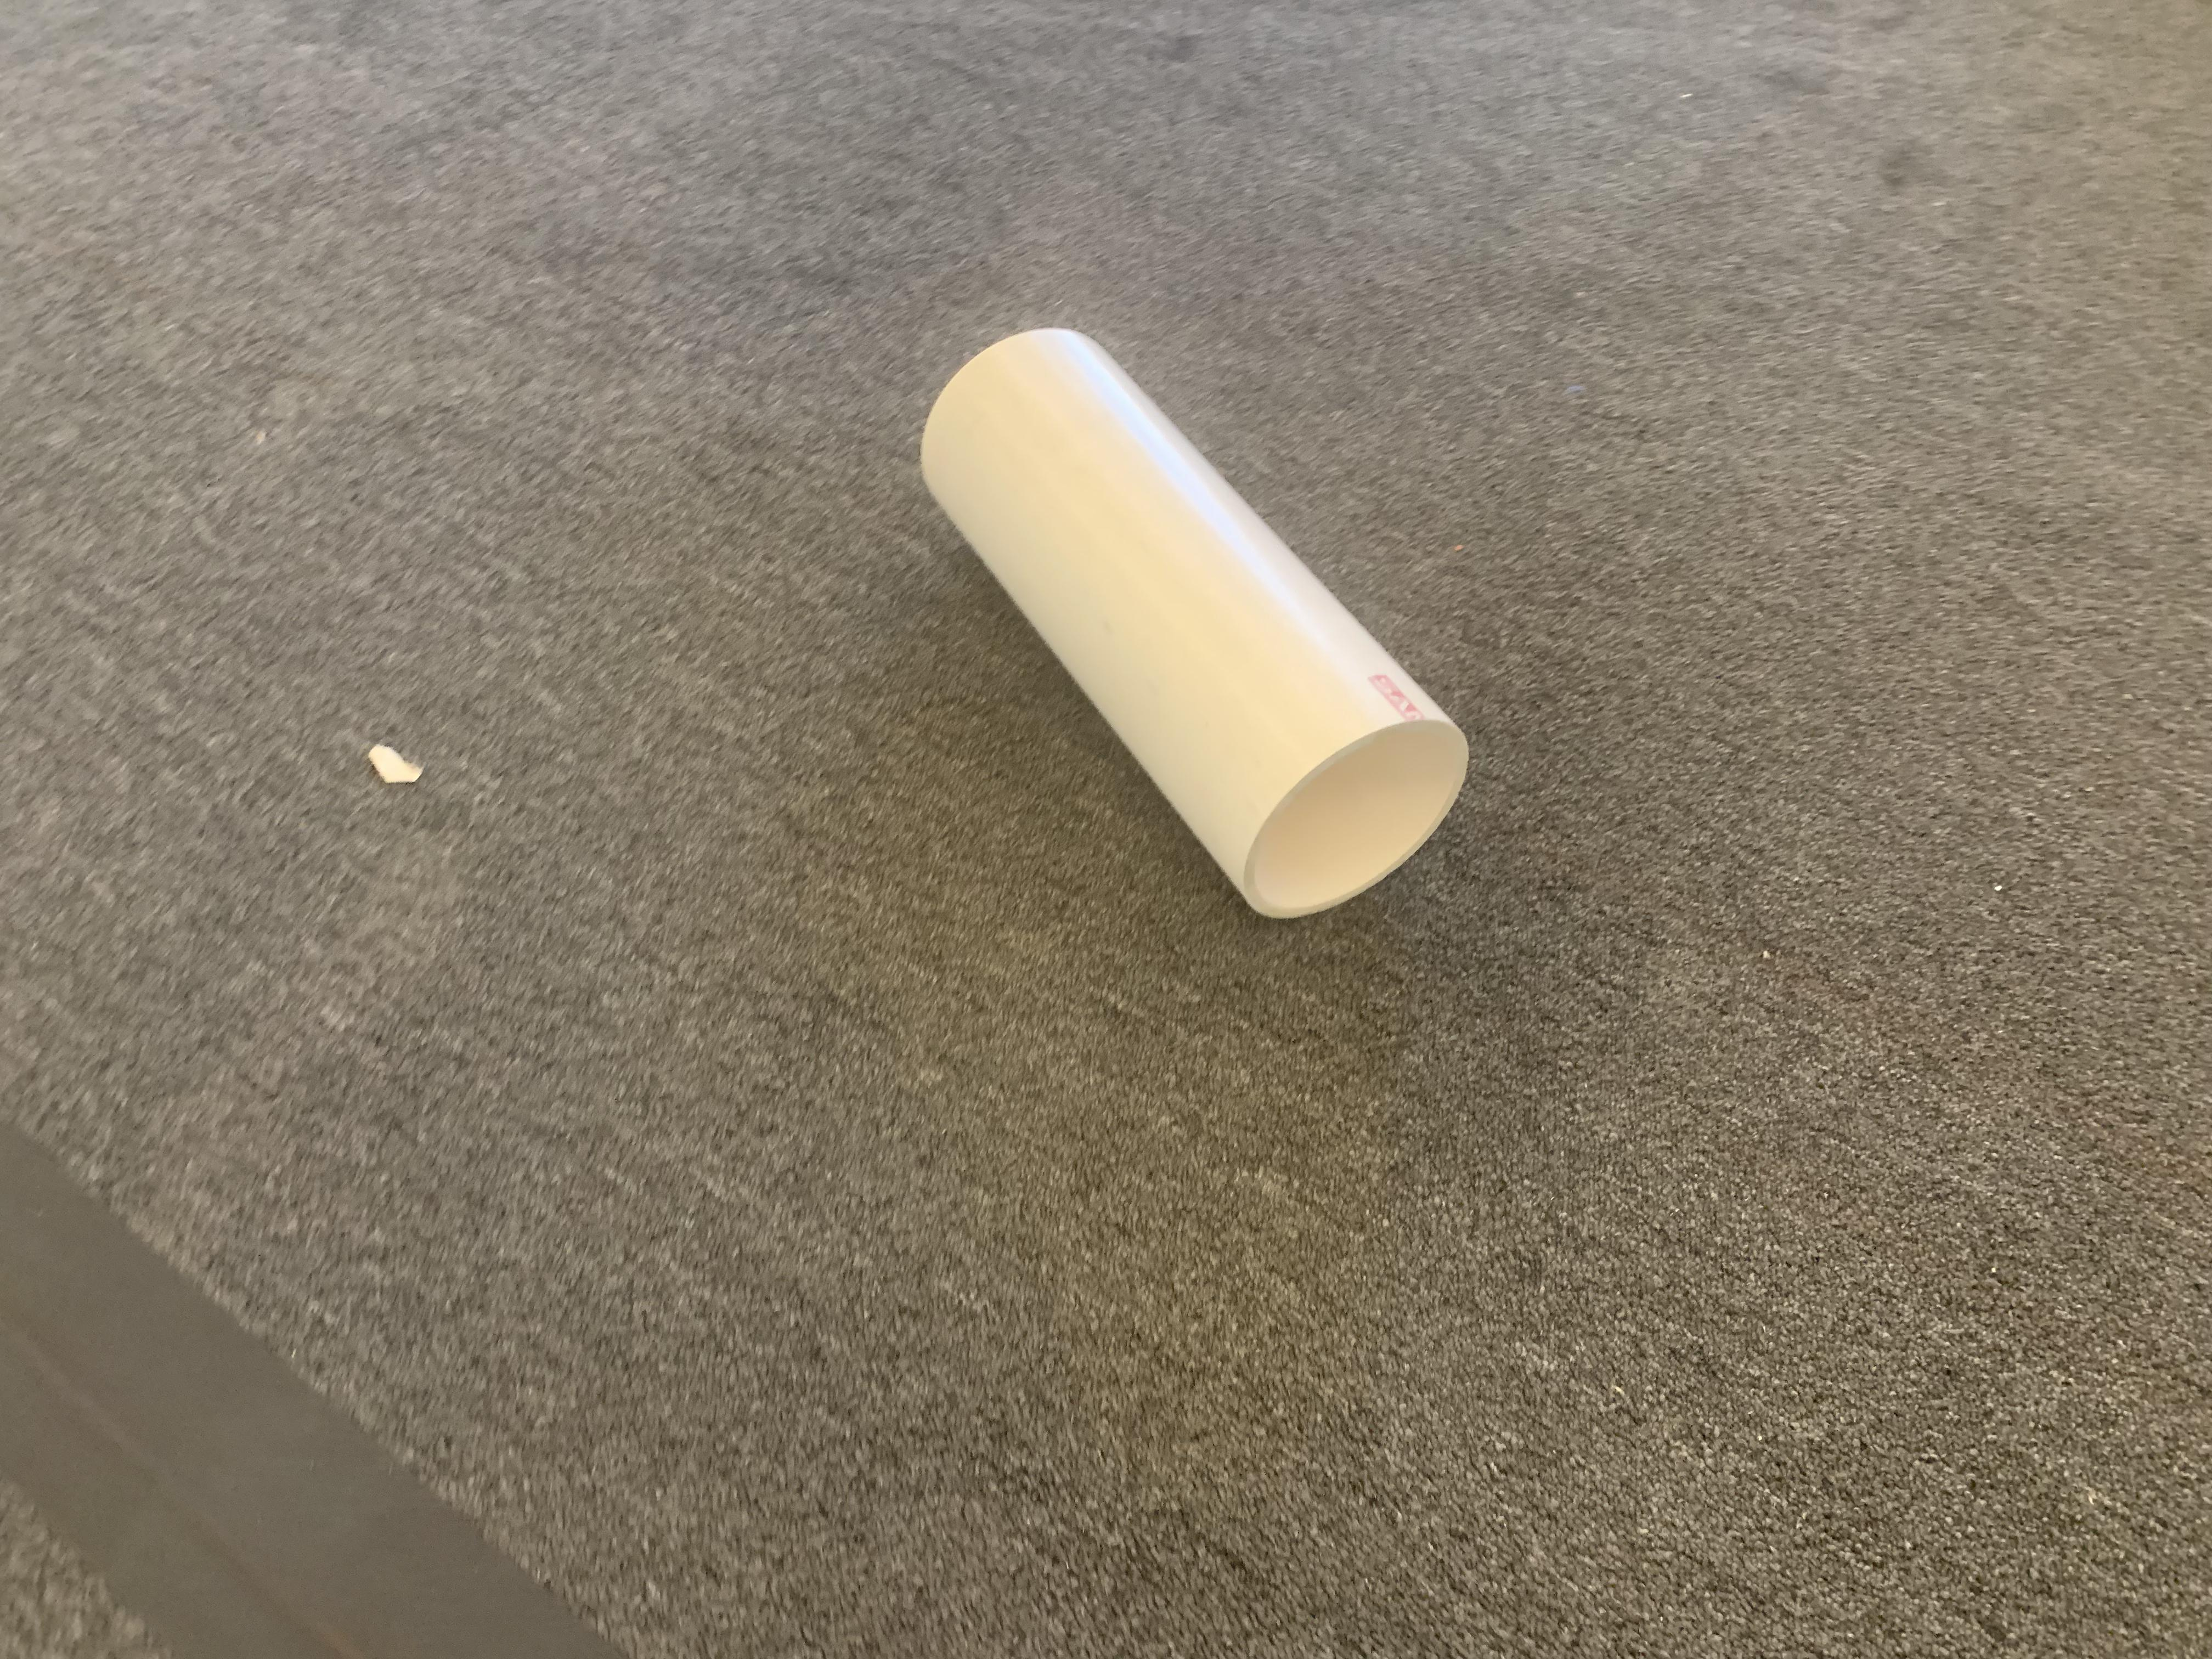coral: (916, 322, 1470, 922)
